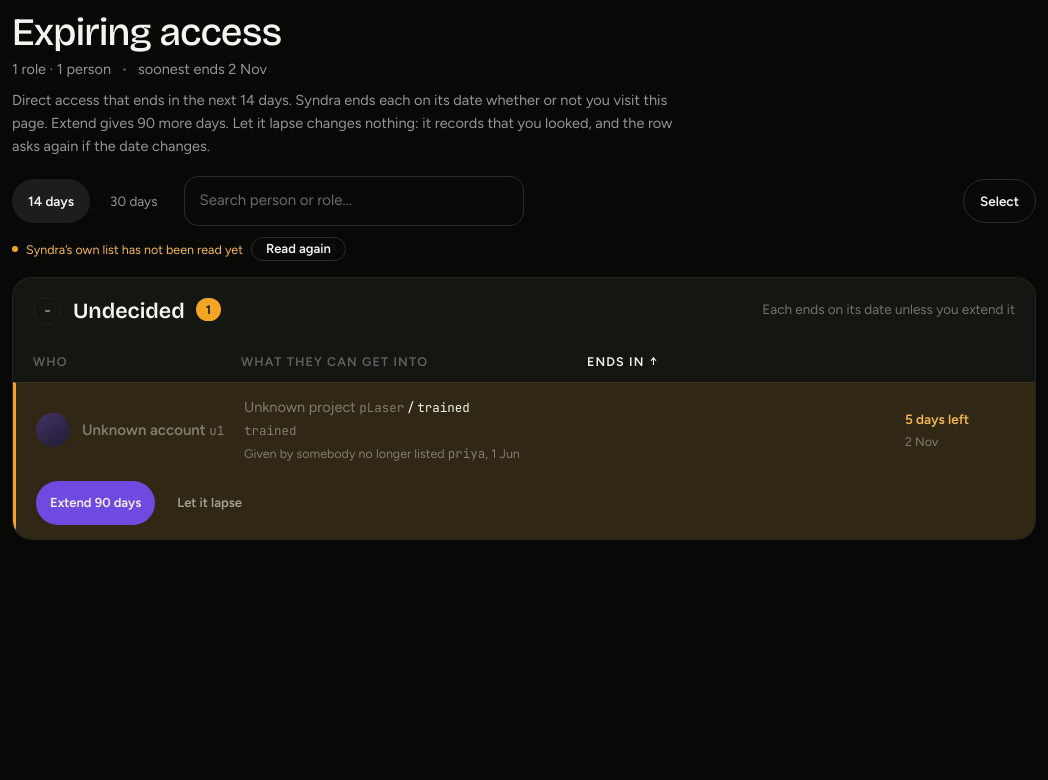
Test: Expiring access, laid out as its board › Extend reports in the seat its buttons held
Click the button "Extend 90 days" at (96, 503), box [36, 481, 155, 525]
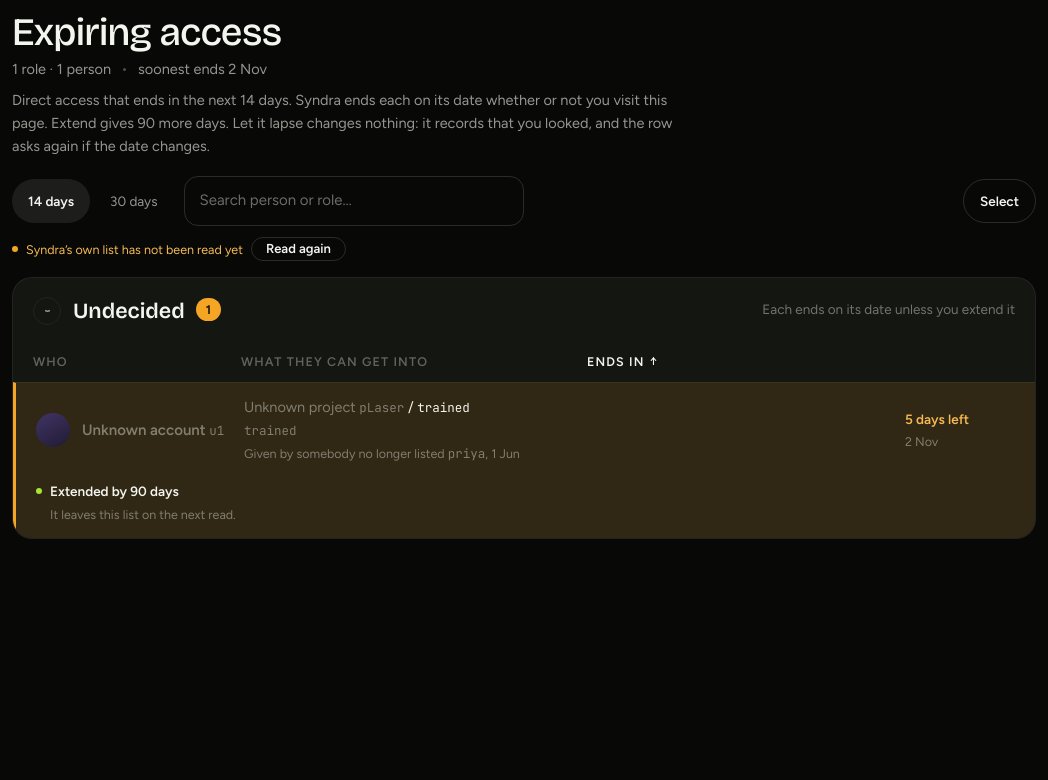
Expected: the button "Let it lapse" is not shown
Expected: the message shows "Extended by 90 days", [50, 483, 179, 499]
Expected: the button "Extend 90 days" is gone
